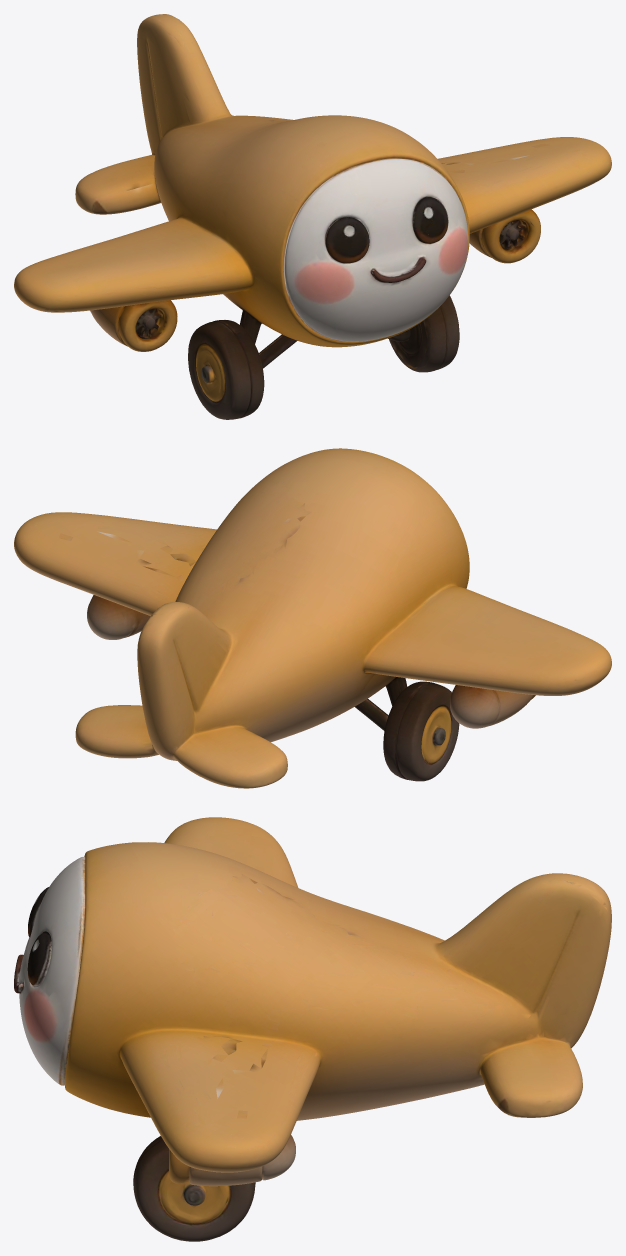
The model's file is cute_plane_3-transformed.glb.
The picture shows the model from 3 angles, top to bottom: view 1: azimuth 30°, elevation 25°; view 2: azimuth 150°, elevation 25°; view 3: azimuth 270°, elevation 25°; orthographic projection. The views are drawn at different scales.
Parts seen in each view (by area): view 1: node_0; view 2: node_0; view 3: node_0.
Part boxes in pixels (x1,y1,x2,y2): node_0: (14, 14, 611, 419); node_0: (14, 448, 611, 788); node_0: (14, 817, 611, 1241).
Bounding box in the file's own units: 1.16 × 0.5221 × 0.8736.
Materials: 1 (1 with a texture image).
